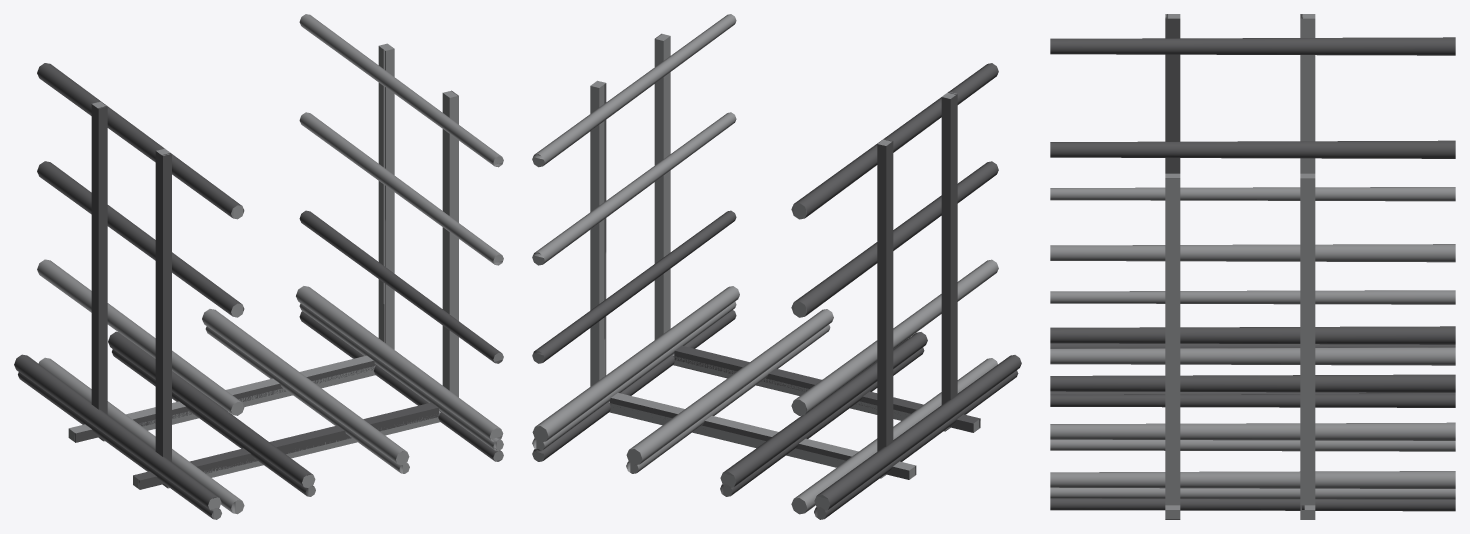
3 renders of one model, left to right at view 1: azimuth 30°, elevation 25°; view 2: azimuth 150°, elevation 25°; view 3: azimuth 270°, elevation 25°, orthographic. The views are drawn at different scales.
Bounding box in the file's own units: 0.9353 × 0.9222 × 0.96.
